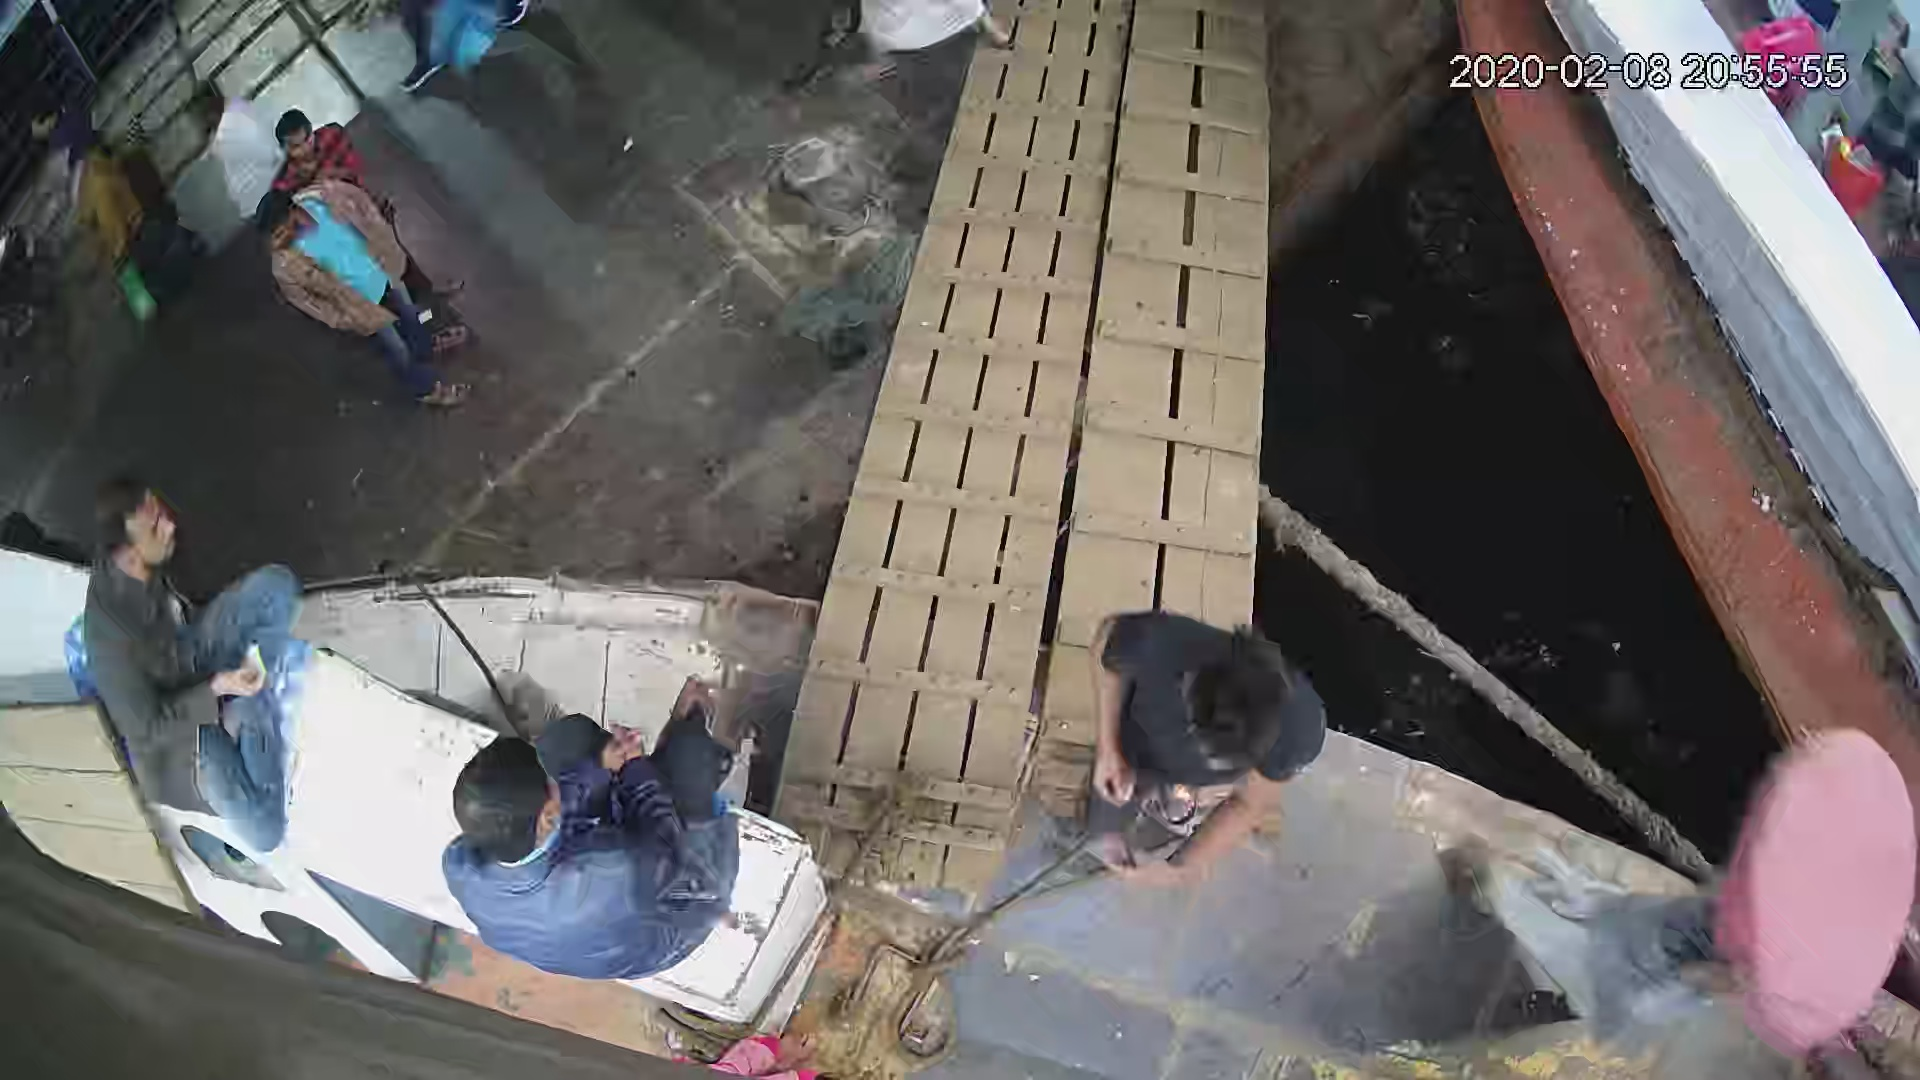person: (1436, 736, 1905, 1064), (430, 684, 751, 979), (72, 484, 300, 852), (1079, 605, 1326, 897), (261, 181, 472, 406), (47, 138, 196, 308), (258, 107, 361, 178)
